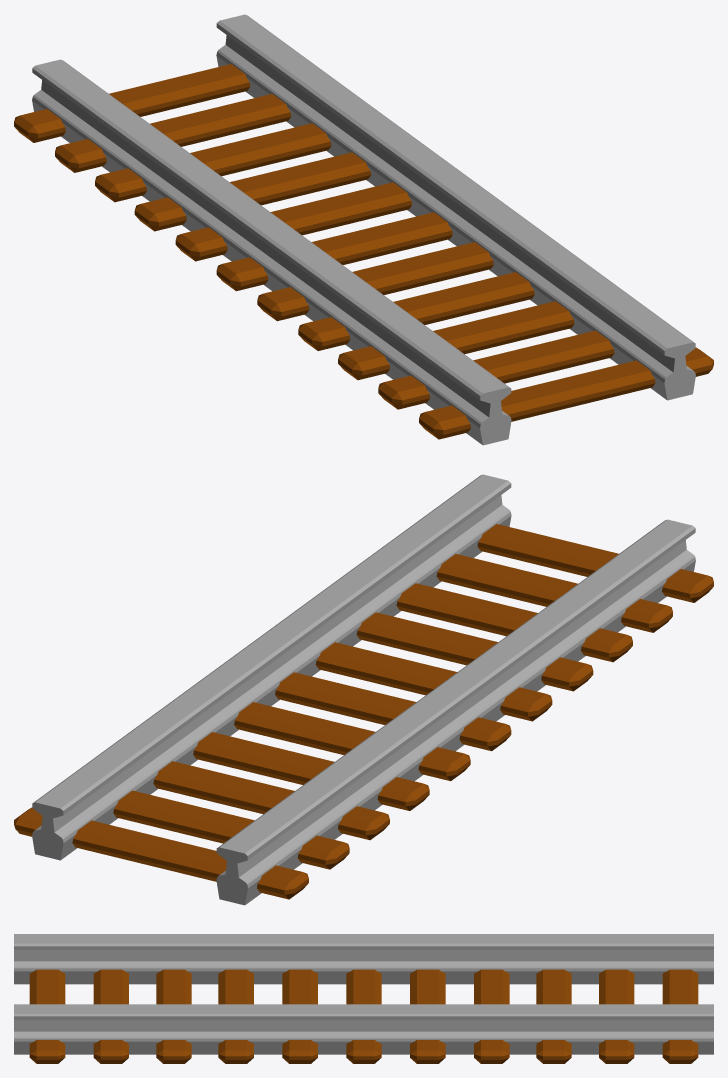
The model's file is RayDuz.fbx.
The picture shows the model from 3 angles, top to bottom: view 1: azimuth 30°, elevation 25°; view 2: azimuth 150°, elevation 25°; view 3: azimuth 270°, elevation 25°; orthographic projection. The views are drawn at different scales.
Parts seen in each view (by area): view 1: Railroad14; view 2: Railroad14; view 3: Railroad14.
Boxes of the visible parts, left/top/right/bottom form: Railroad14: left=14, top=14, right=713, bottom=445; Railroad14: left=14, top=474, right=713, bottom=905; Railroad14: left=14, top=934, right=713, bottom=1063.
Bounding box in the file's own units: 1.03 × 0.1816 × 2.84.
